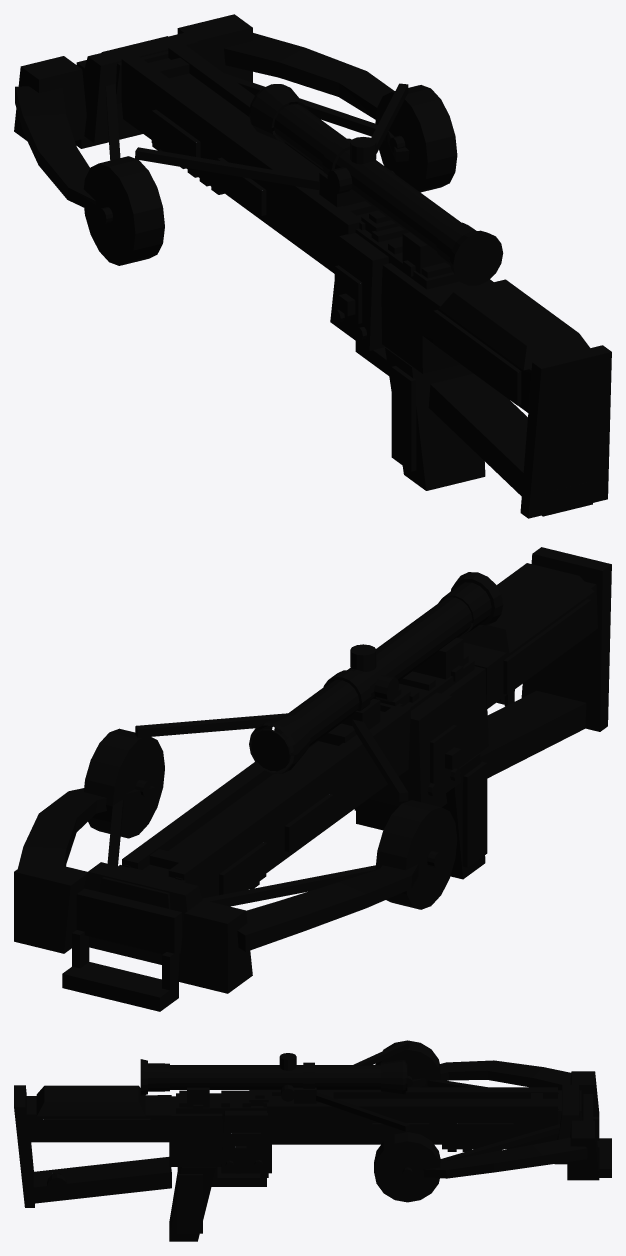
The model's file is crossbow_pulling_1.obj.
3 renders of one model, top to bottom at view 1: azimuth 30°, elevation 25°; view 2: azimuth 150°, elevation 25°; view 3: azimuth 270°, elevation 25°, orthographic. The views are drawn at different scales.
Parts seen in each view (by area): view 1: crossbow; view 2: crossbow; view 3: crossbow.
Part boxes in pixels (box(x1,y1,x2,y2)): crossbow: box(14, 14, 611, 518); crossbow: box(14, 547, 611, 1011); crossbow: box(14, 1040, 611, 1241).
Bounding box in the file's own units: 0.3781 × 0.2875 × 0.8863.
